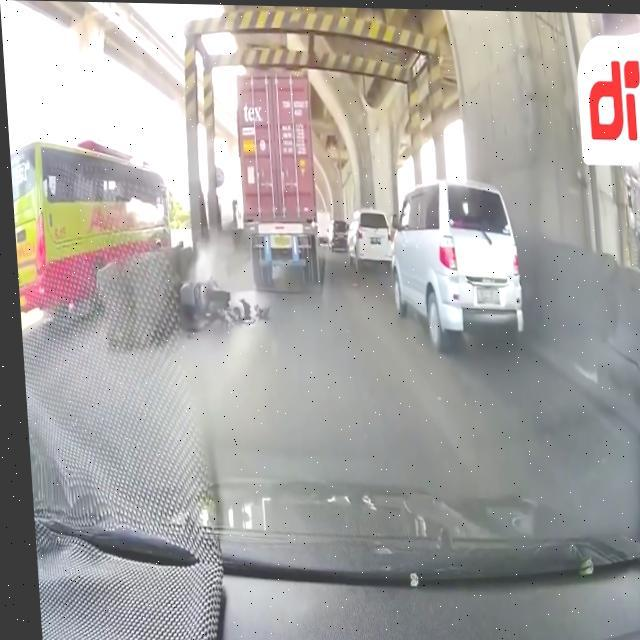single accident: (85, 228, 282, 343)
